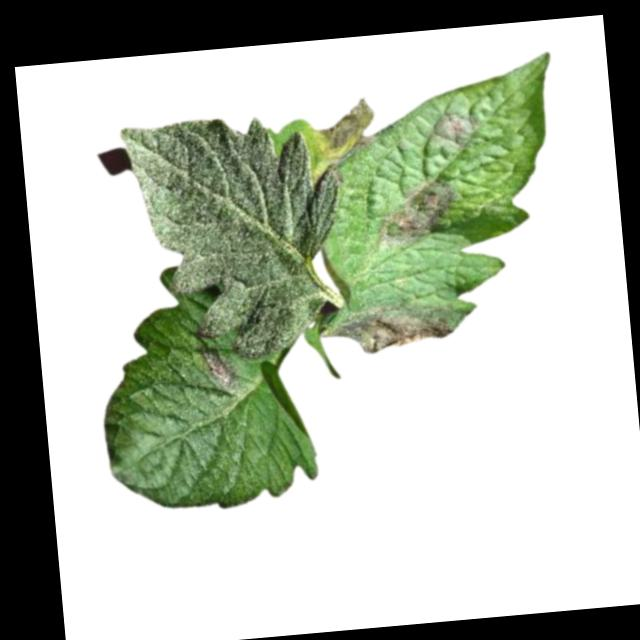Late_blight: (323, 295, 469, 358), (369, 176, 458, 257), (311, 96, 379, 179), (427, 106, 487, 153), (205, 349, 241, 390)
healthy: (120, 105, 360, 368)
